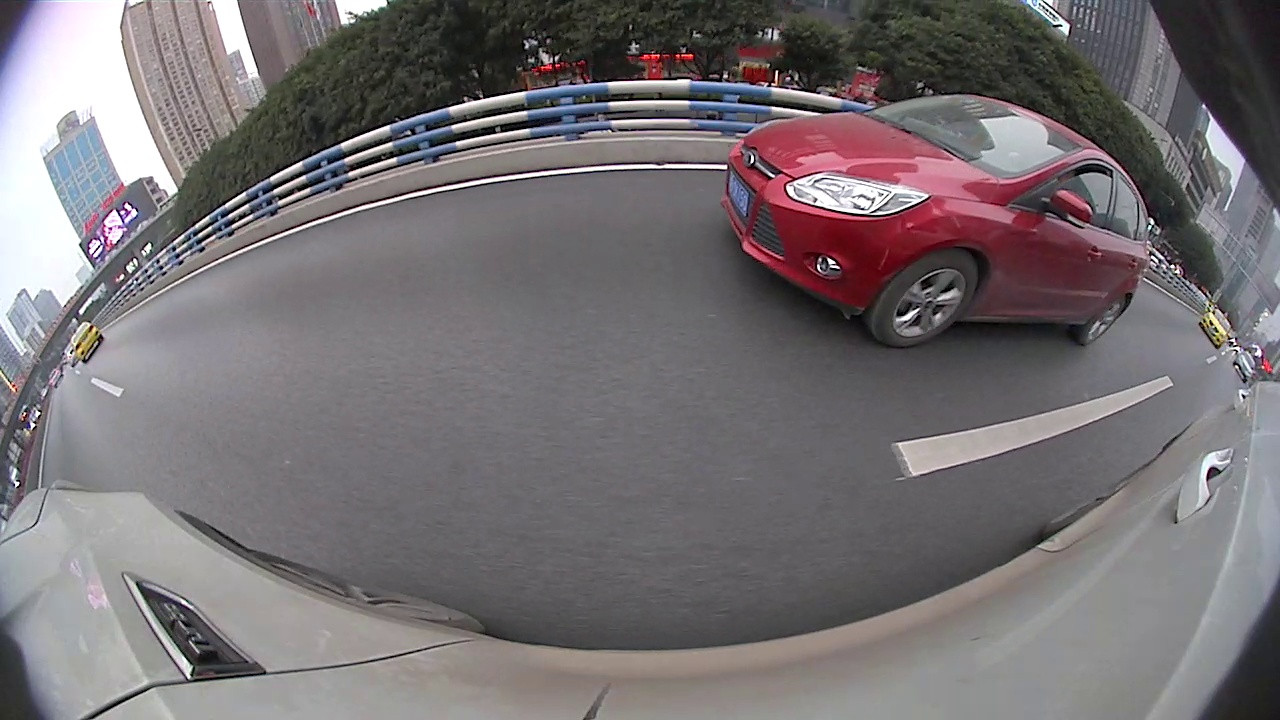car: (923, 184, 1277, 428), (174, 134, 509, 329), (788, 148, 933, 230), (623, 142, 714, 213), (491, 156, 573, 205), (714, 151, 775, 198)
front: (934, 221, 978, 279), (485, 192, 504, 237), (790, 182, 805, 209)
rear: (1146, 335, 1222, 424), (336, 232, 396, 313), (842, 192, 867, 225)
